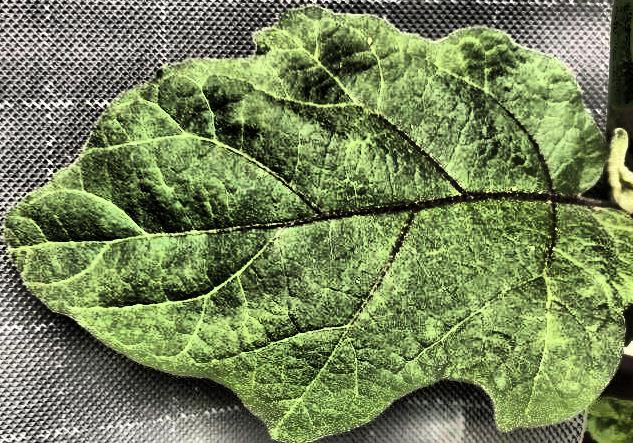HEALTHY: (0, 1, 633, 443)
